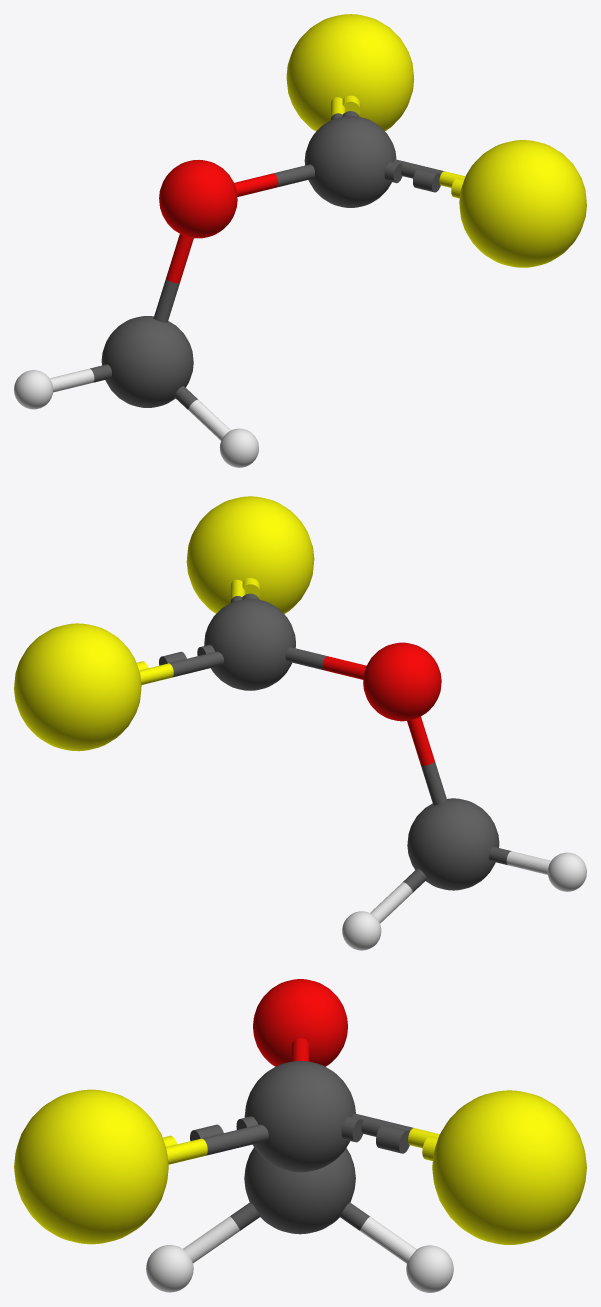
File: methyl_xanthate.fbx
3 renders of one model, top to bottom at view 1: azimuth 30°, elevation 25°; view 2: azimuth 150°, elevation 25°; view 3: azimuth 270°, elevation 25°, orthographic. The views are drawn at different scales.
Visible parts, largest first — view 1: S03, S02, C05, C01, O04, C01%S03, O04-C05, H06, H08, C01-O04, C05-H08, C05-H06 (+1 smaller); view 2: S02, S03, C05, C01, O04, C01%S02, O04-C05, H07, H06, C01-O04, C05-H07, C05-H06 (+1 smaller); view 3: S02, S03, C01, C05, O04, C01%S03, C01%S02, H08, H07, C05-H08, C05-H07.
Boxes of the visible parts, x1,y1,x2,y2 form: S03: (459,140,586,267); S02: (286,14,414,131); C05: (101,316,193,407); C01: (304,116,396,207); O04: (159,160,237,238); C01%S03: (384,159,465,198); O04-C05: (153,234,193,322); H06: (14,370,53,409); H08: (219,428,258,467); C01-O04: (234,164,314,196); C05-H08: (174,386,230,440); C05-H06: (50,364,111,392); S02: (14,623,141,751); S03: (186,496,314,613); C05: (407,798,499,890); C01: (204,598,295,690); O04: (363,642,441,721); C01%S02: (136,644,223,684); O04-C05: (407,716,447,805); H07: (342,911,381,950); H06: (547,852,586,891); C01-O04: (285,647,366,679); C05-H07: (370,868,426,923); C05-H06: (489,847,550,874); S02: (432,1090,586,1244); S03: (14,1089,168,1244); C01: (244,1060,355,1172); C05: (244,1147,355,1234); O04: (253,979,347,1066); C01%S03: (163,1116,268,1164); C01%S02: (341,1113,439,1160); H08: (146,1245,193,1292); H07: (406,1245,453,1292); C05-H08: (183,1202,260,1263); C05-H07: (340,1202,416,1263).
Bounding box in the file's own units: 446 × 254 × 385.
